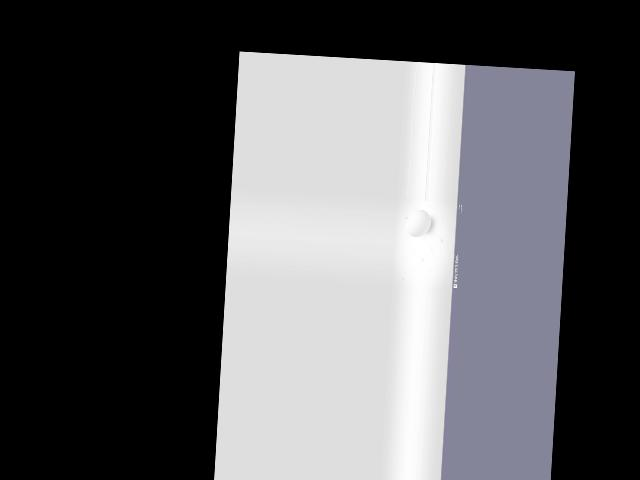egg: (405, 208, 432, 237)
